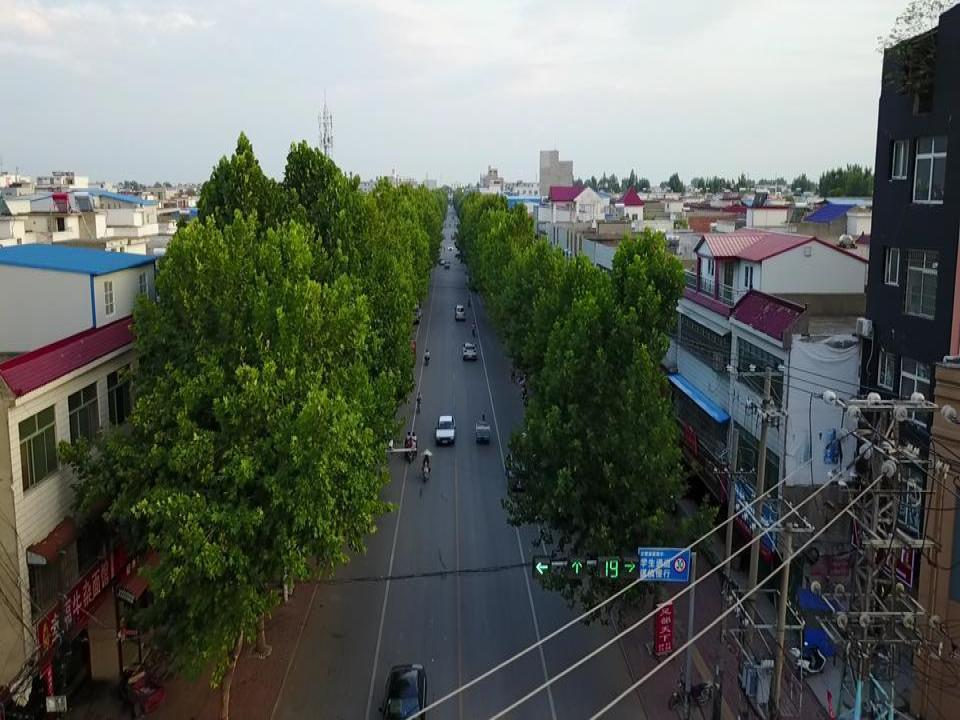car: (378, 664, 427, 720), (504, 448, 533, 491), (434, 415, 456, 445), (462, 342, 477, 362), (439, 256, 445, 264), (447, 244, 453, 251)
truck: (405, 292, 420, 324), (444, 259, 450, 268)
van: (454, 304, 465, 321)
